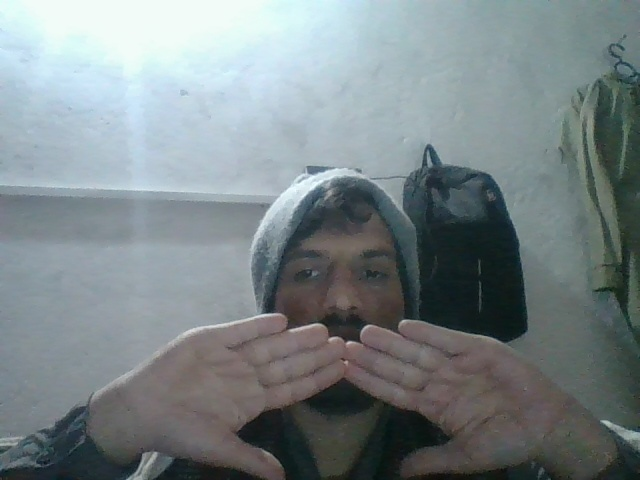ThankYou: (86, 313, 578, 478)
